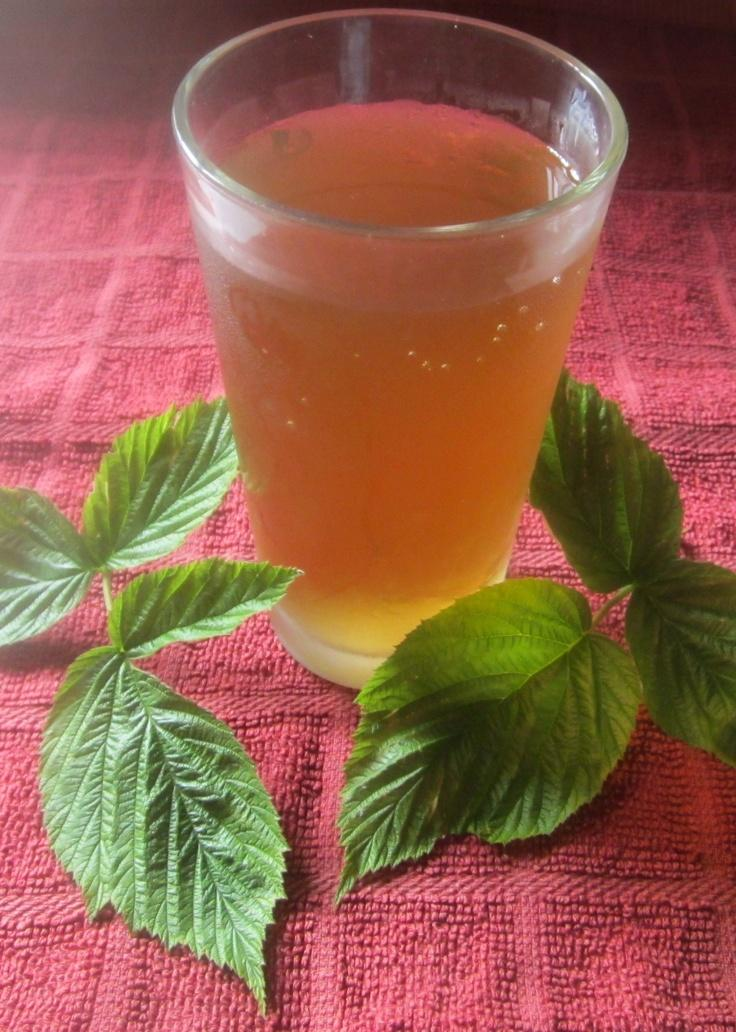Raspberry leaf: (317, 587, 650, 919), (37, 639, 295, 1025), (503, 339, 697, 594), (84, 390, 255, 587), (104, 554, 317, 648), (1, 475, 97, 662)
